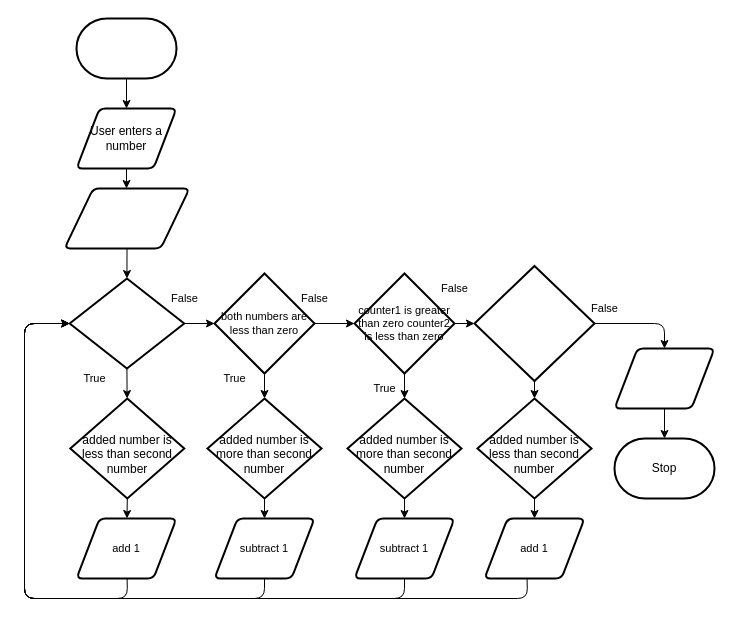
Some shapes in this 733 by 624 pixel diagram are drawn without their labels. Here are the shapes that lost their labels. From the top down, the centre of each, then its label:
At (x=126, y=48): "Start".
At (x=126, y=218): "User enters second number".
At (x=126, y=323): "both numbers are larger than zero".
At (x=534, y=323): "counter1 is less than zero counter2 is larger than zero".
At (x=664, y=378): "Show answer".
